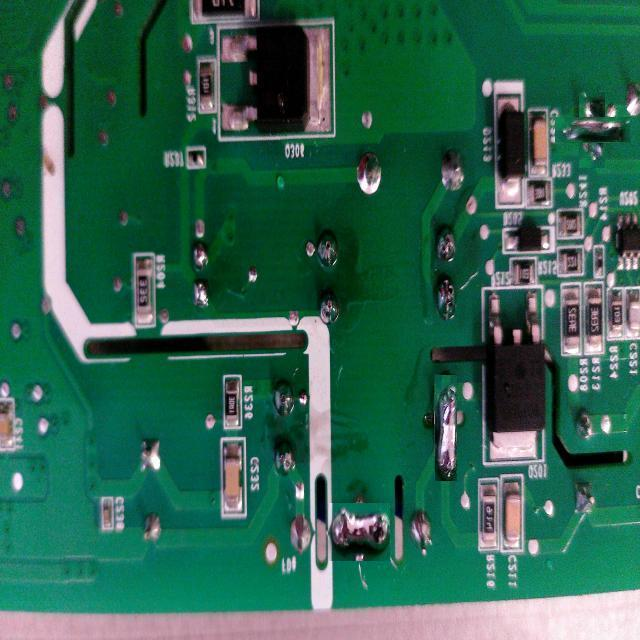Short_circuit: (328, 503, 391, 561), (567, 104, 618, 156), (434, 374, 457, 481)
